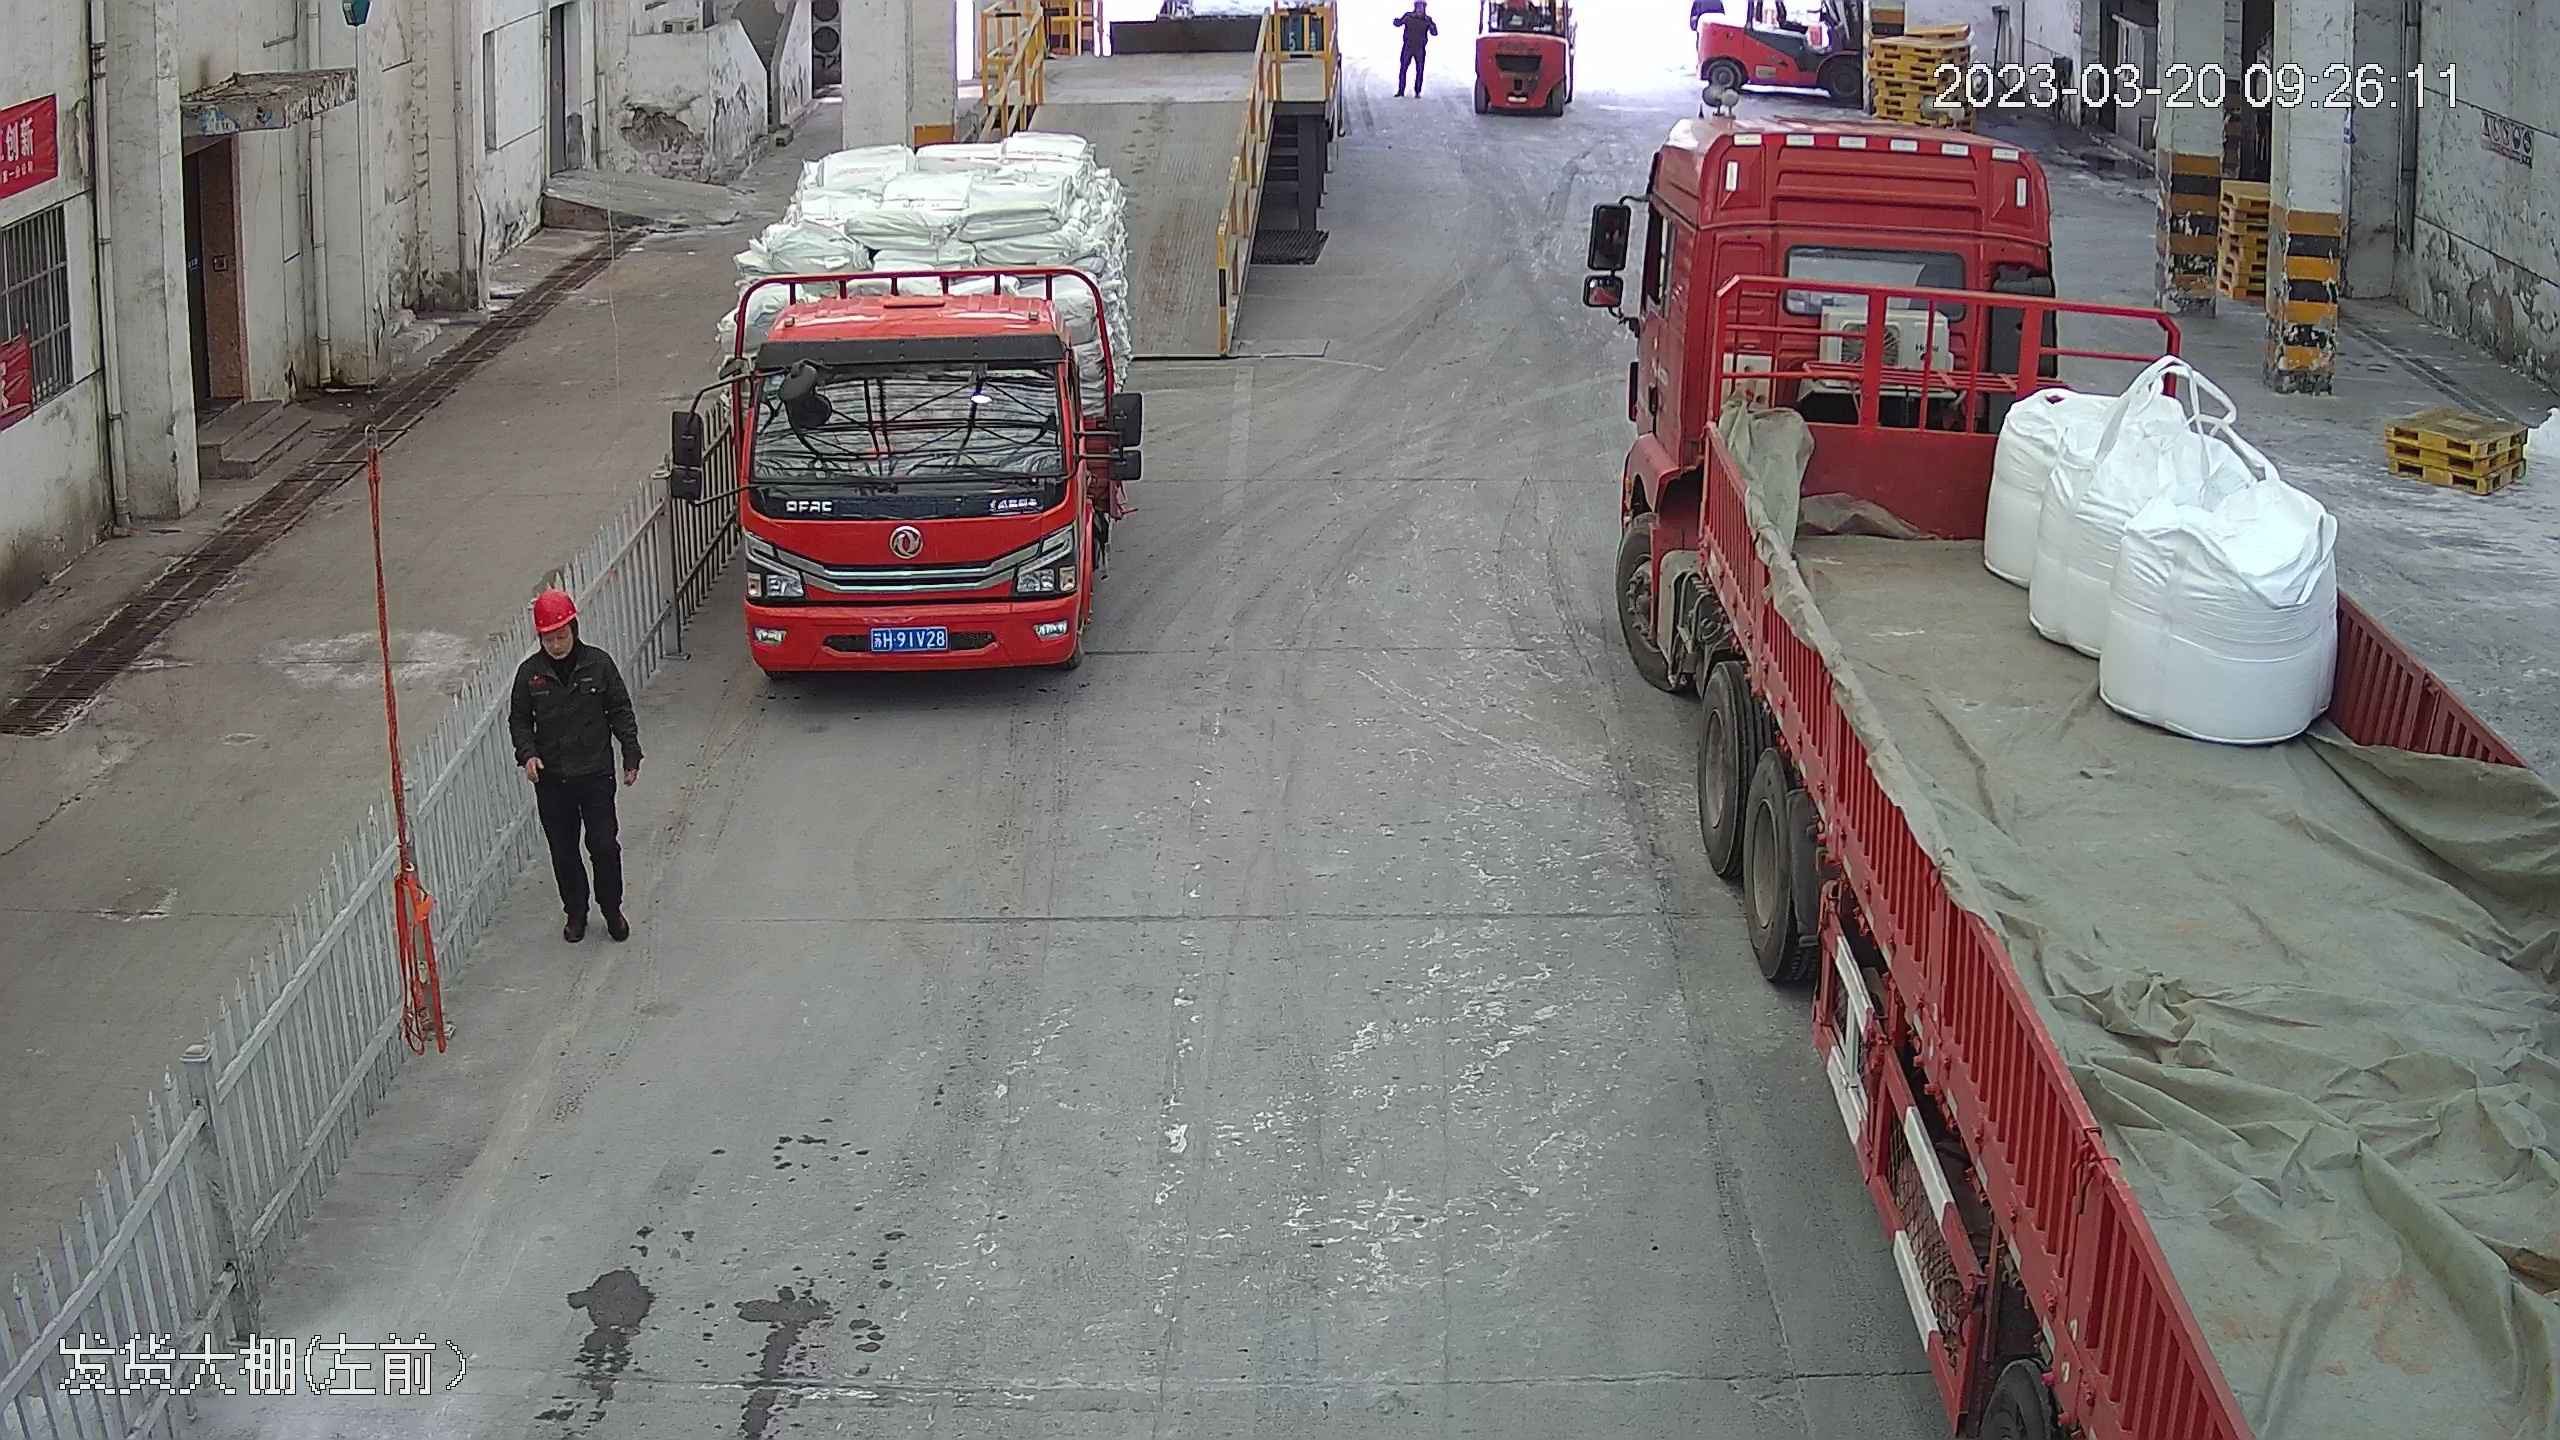head: (514, 583, 620, 696)
helmet: (529, 583, 582, 629)
people: (509, 580, 645, 947), (1392, 1, 1444, 98)
truck: (1589, 86, 2560, 1440), (704, 36, 1143, 695)
